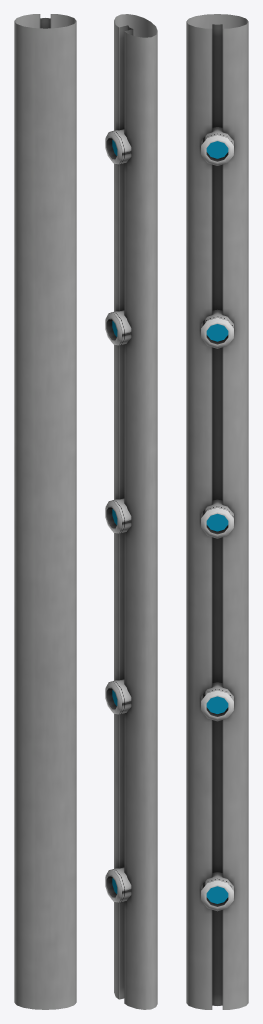
Rendered from ProjectionBar.fbx.
3 views of the same model, side by side, from view 1: azimuth 90°, elevation 25°; view 2: azimuth 210°, elevation 25°; view 3: azimuth 270°, elevation 25° (orthographic).
Parts seen in each view (by area): view 1: pCylinder1; view 2: pCylinder1, pCylinder13, pCylinder14, pCylinder15, pCylinder12, pCylinder3; view 3: pCylinder1, pCylinder14, pCylinder3, pCylinder12, pCylinder13, pCylinder15.
Boxes of the visible parts, x1=… form: pCylinder1: x1=14, y1=14, x2=76, y2=1009; pCylinder1: x1=114, y1=14, x2=157, y2=1009; pCylinder13: x1=105, y1=498, x2=131, y2=533; pCylinder14: x1=105, y1=679, x2=131, y2=714; pCylinder15: x1=105, y1=867, x2=131, y2=902; pCylinder12: x1=105, y1=310, x2=131, y2=345; pCylinder3: x1=105, y1=129, x2=131, y2=164; pCylinder1: x1=186, y1=14, x2=248, y2=1009; pCylinder14: x1=201, y1=682, x2=233, y2=721; pCylinder3: x1=201, y1=127, x2=233, y2=165; pCylinder12: x1=201, y1=309, x2=233, y2=348; pCylinder13: x1=201, y1=499, x2=233, y2=538; pCylinder15: x1=201, y1=872, x2=233, y2=911.
Size of the model in its own units: 1.02 by 23.9 by 1.38.
3 materials, 2 textured.
